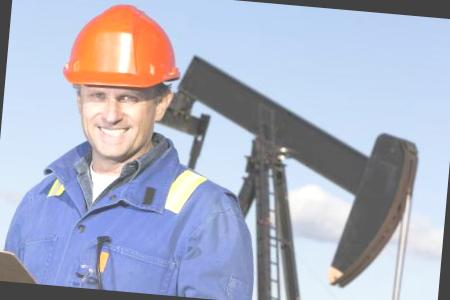person: (0, 0, 282, 300)
